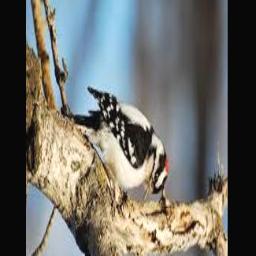Woodpecker: (67, 87, 168, 204)
